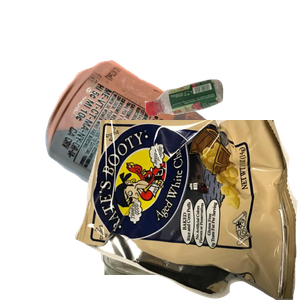glass: (98, 120, 286, 300)
metal: (43, 58, 283, 238)
plastic: (142, 77, 300, 186)
trash: (75, 120, 300, 300)
